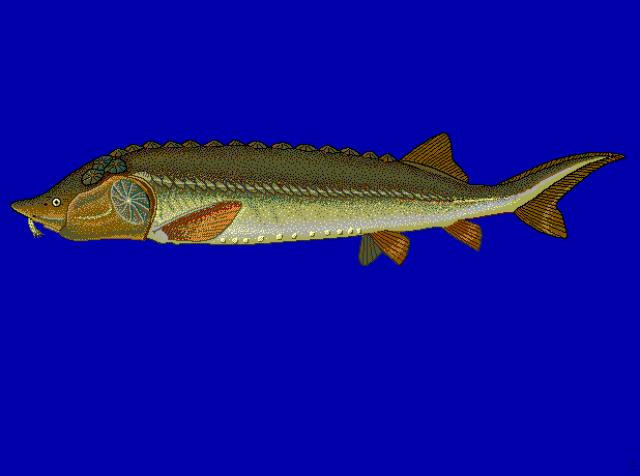Sirip Anal: (439, 211, 491, 257)
Sirip Dada: (154, 190, 250, 254)
Sirip Ekor: (506, 146, 630, 238)
Sirip Perut: (344, 221, 416, 271)
Sirip Punggung: (399, 122, 478, 188)
